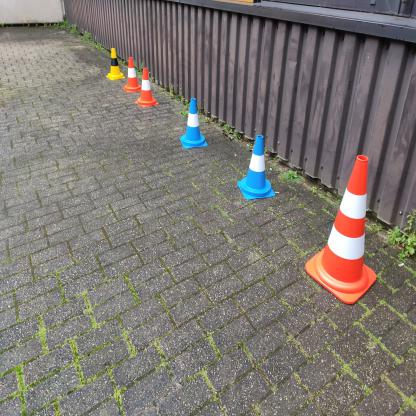Cones_big: (300, 127, 380, 310)
Cones_small_blue: (235, 128, 276, 209), (175, 92, 210, 152)
Cones_small_orange: (138, 64, 158, 112), (124, 55, 140, 98)
Cones_small_yellow: (100, 42, 124, 83)
